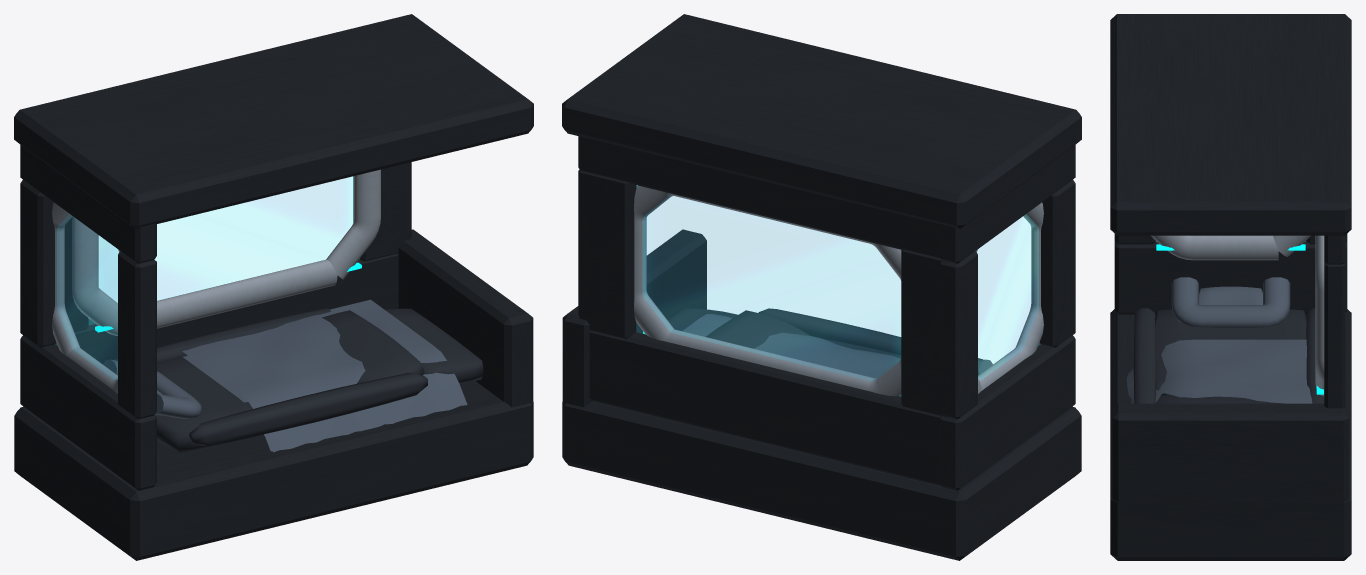
The model's file is bunk_r2_05.glb.
3 renders of one model, left to right at view 1: azimuth 30°, elevation 25°; view 2: azimuth 150°, elevation 25°; view 3: azimuth 270°, elevation 25°, orthographic.
Parts seen in each view (by area): view 1: CornerPod_LShapedGunmetalHull, CornerPod_DualTranslucentViewports, CornerPod_SlateBolstersAndThrow, CornerPod_CharcoalLoungeCouch, CornerPod_DualMachinedBezels; view 2: CornerPod_LShapedGunmetalHull, CornerPod_DualTranslucentViewports, CornerPod_DualMachinedBezels, CornerPod_CharcoalLoungeCouch, CornerPod_SlateBolstersAndThrow; view 3: CornerPod_LShapedGunmetalHull, CornerPod_SlateBolstersAndThrow, CornerPod_CharcoalLoungeCouch, CornerPod_DualMachinedBezels.
Part boxes in pixels (x1=…): CornerPod_LShapedGunmetalHull: x1=14, y1=14, x2=533, y2=560; CornerPod_DualTranslucentViewports: x1=56, y1=176, x2=353, y2=379; CornerPod_SlateBolstersAndThrow: x1=103, y1=299, x2=467, y2=452; CornerPod_CharcoalLoungeCouch: x1=113, y1=308, x2=483, y2=453; CornerPod_DualMachinedBezels: x1=52, y1=169, x2=380, y2=393; CornerPod_LShapedGunmetalHull: x1=562, y1=14, x2=1081, y2=560; CornerPod_DualTranslucentViewports: x1=637, y1=186, x2=1039, y2=395; CornerPod_DualMachinedBezels: x1=634, y1=185, x2=1043, y2=396; CornerPod_CharcoalLoungeCouch: x1=668, y1=308, x2=983, y2=360; CornerPod_SlateBolstersAndThrow: x1=682, y1=314, x2=992, y2=377; CornerPod_LShapedGunmetalHull: x1=1110, y1=14, x2=1351, y2=560; CornerPod_SlateBolstersAndThrow: x1=1126, y1=277, x2=1312, y2=403; CornerPod_CharcoalLoungeCouch: x1=1133, y1=308, x2=1324, y2=403; CornerPod_DualMachinedBezels: x1=1151, y1=235, x2=1324, y2=396.
Size of the model in its own units: 2.2 by 1.91 by 1.16.
Materials: 6 (6 with a texture image).
